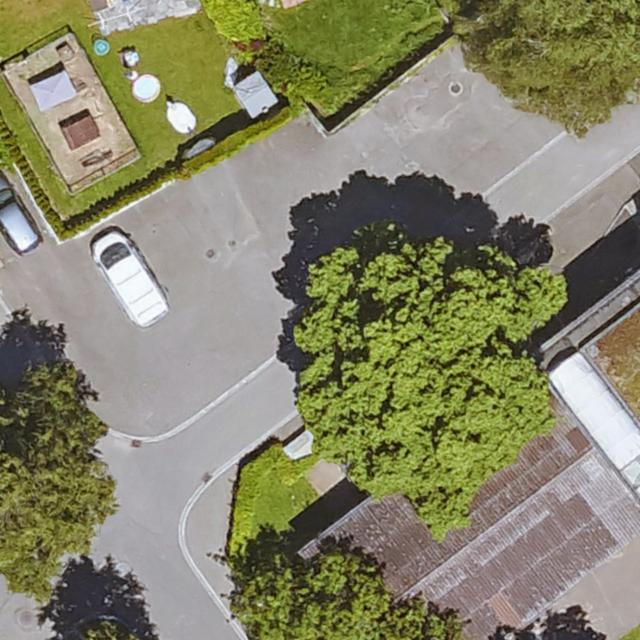tree: (296, 228, 555, 496), (460, 0, 640, 133), (0, 447, 112, 587), (300, 556, 453, 640), (6, 361, 99, 458), (232, 555, 307, 637), (63, 620, 149, 640)
